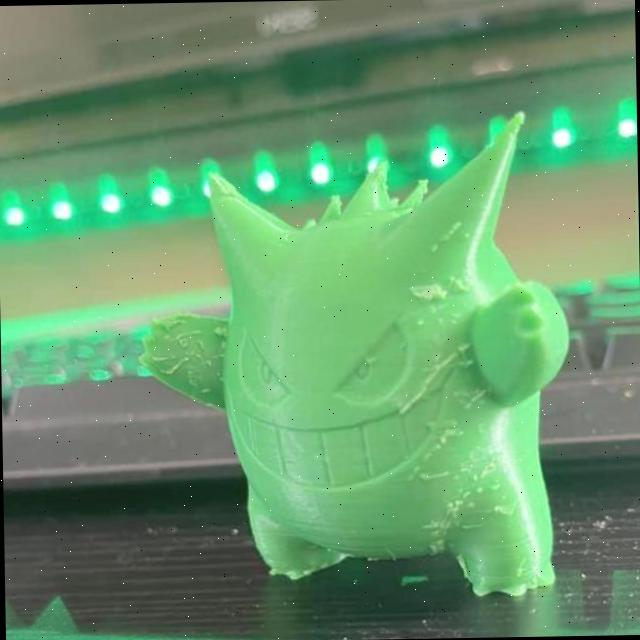blobs: (472, 484, 489, 496), (453, 496, 466, 511), (412, 316, 427, 328), (443, 498, 456, 508)
